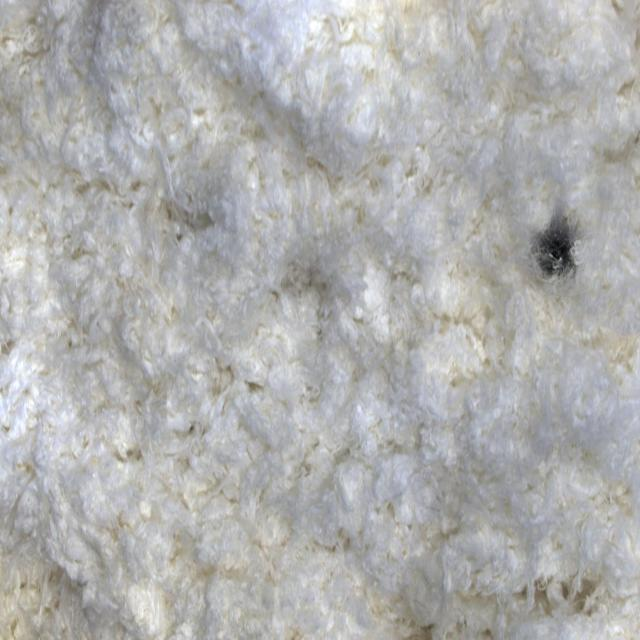dust: (515, 180, 605, 323)
